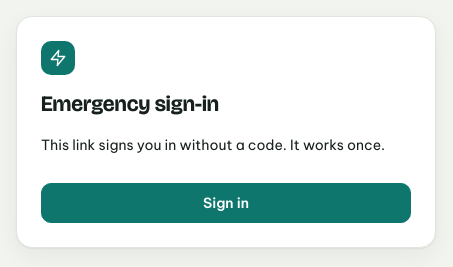
the answers (R45) › account_deactivated shows the deactivated state
Click the button "Sign in".
click(226, 203)  # box [41,183,411,223]
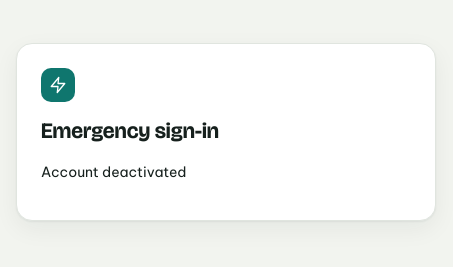
Expected: the text "Account deactivated" is shown, [41,163,186,181]
Expected: the button "Sign in" is gone
